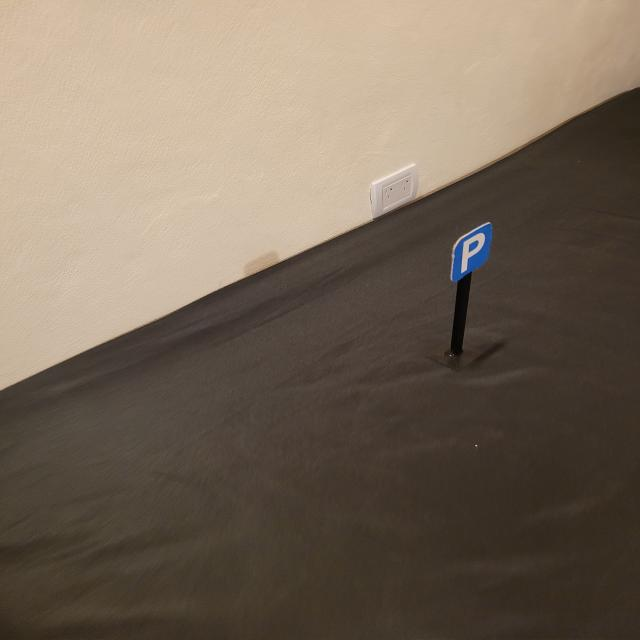parking: (450, 222, 493, 282)
